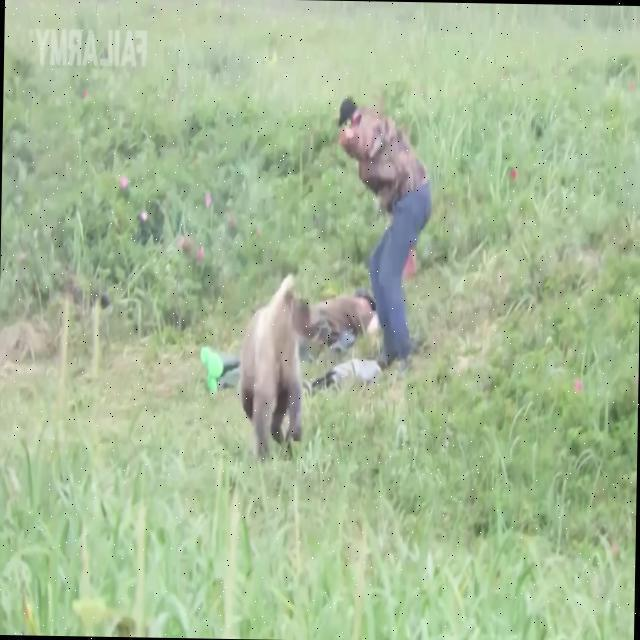person: (333, 95, 434, 370)
